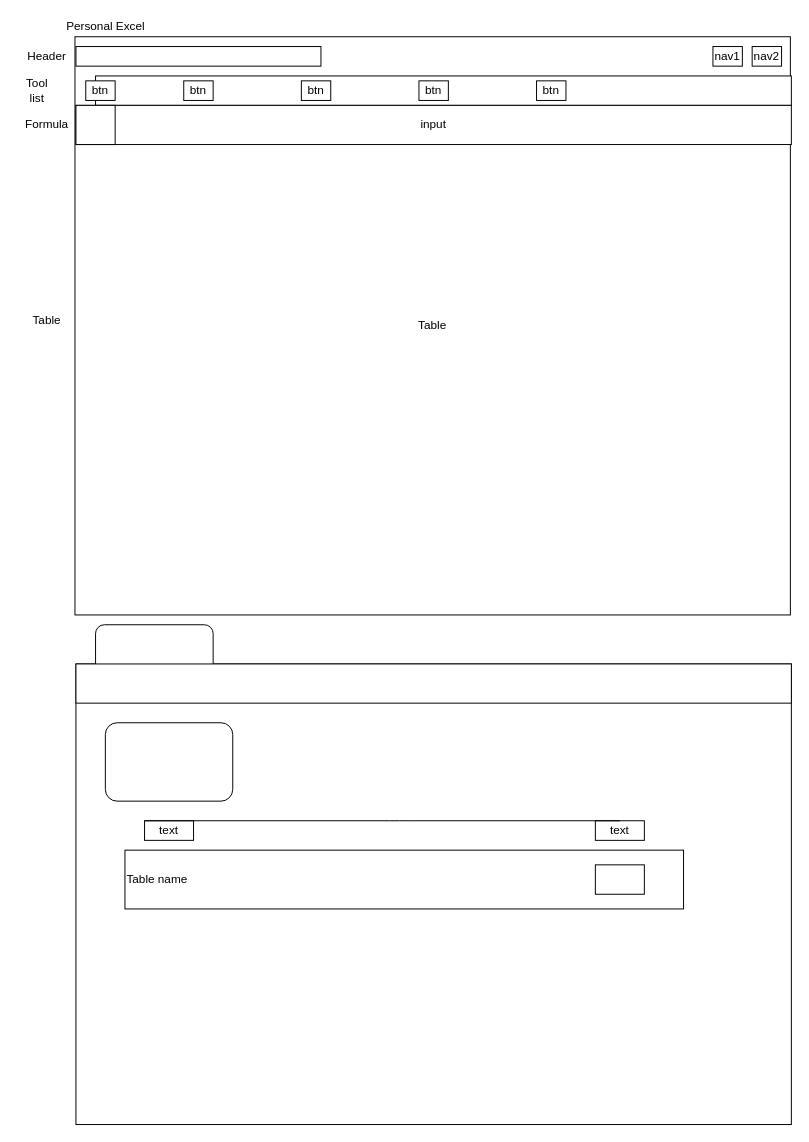
Some shapes in this 809 by 1142 pixel diagram are drawn without their labels. The centre of each missing label's shape, as x and y in pixels:
"Dashboard" belongs at point 154,654.
"excel dashboard" belongs at point 433,683.
"fName" belongs at point 198,56.
"fx" belongs at point 95,124.
"opening date" belongs at point 619,879.
